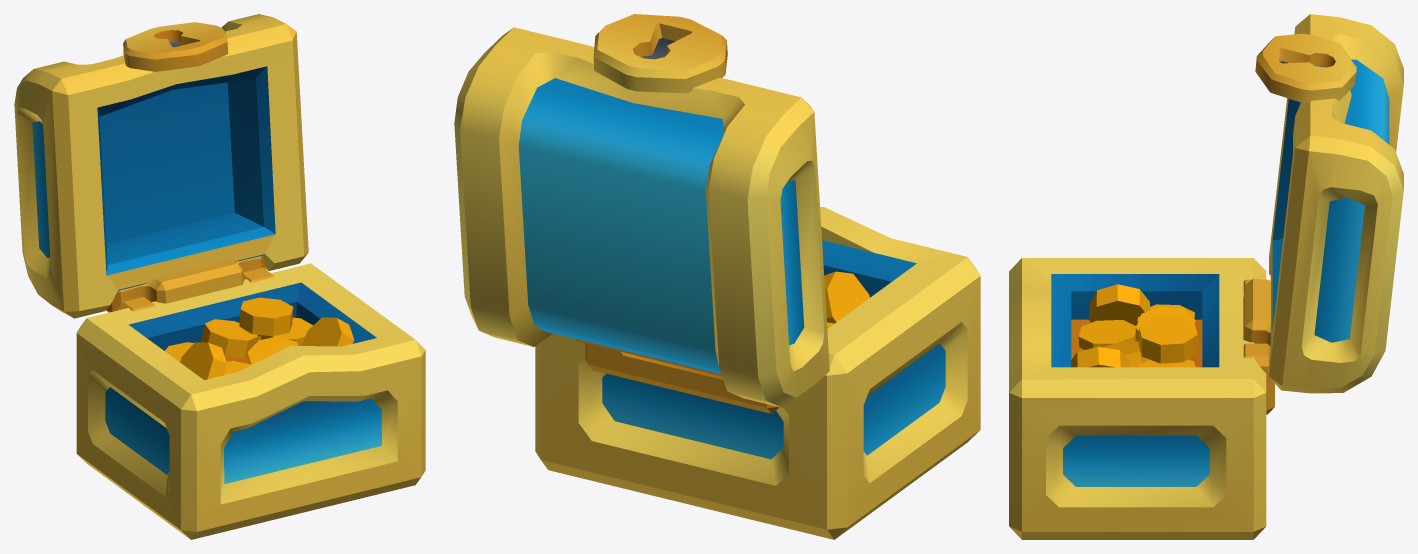
The model's file is env_Chest_Treasure_v05.fbx.
The picture shows the model from 3 angles, left to right: view 1: azimuth 30°, elevation 25°; view 2: azimuth 150°, elevation 25°; view 3: azimuth 270°, elevation 25°; orthographic projection. The views are drawn at different scales.
Parts seen in each view (by area): view 1: Chest_gold_Lid, Chest_gold_Body, coin, coin.002, coin.007, coin.006, coin.004, coin.005; view 2: Chest_gold_Lid, Chest_gold_Body, coin.007; view 3: Chest_gold_Body, Chest_gold_Lid, coin, coin.007, coin.003, coin.006, coin.002, coin.004.
Boxes of the visible parts, x1,y1,x2,y2 form: Chest_gold_Lid: [14, 14, 308, 318]; Chest_gold_Body: [76, 263, 425, 539]; coin: [239, 297, 293, 336]; coin.002: [201, 319, 258, 358]; coin.007: [180, 342, 226, 379]; coin.006: [302, 317, 354, 346]; coin.004: [247, 336, 298, 364]; coin.005: [261, 317, 312, 345]; Chest_gold_Lid: [454, 14, 829, 407]; Chest_gold_Body: [535, 207, 980, 539]; coin.007: [824, 271, 869, 323]; Chest_gold_Body: [1009, 258, 1274, 539]; Chest_gold_Lid: [1243, 14, 1403, 393]; coin: [1138, 316, 1197, 363]; coin.007: [1089, 284, 1149, 325]; coin.003: [1078, 320, 1136, 349]; coin.006: [1070, 346, 1129, 367]; coin.002: [1135, 306, 1196, 341]; coin.004: [1103, 341, 1148, 367].
Bounding box in the file's own units: 86.59 × 126 × 105.
2 materials, 1 textured.
